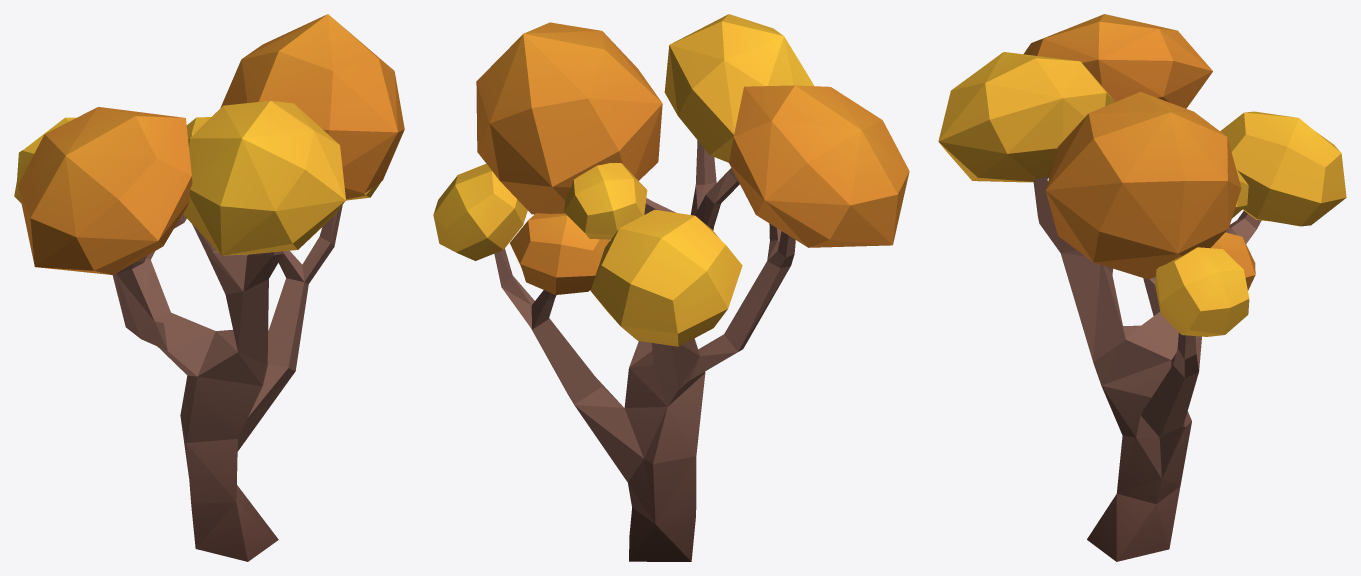
The model's file is AutumnTree3.fbx.
3 renders of one model, left to right at view 1: azimuth 30°, elevation 25°; view 2: azimuth 150°, elevation 25°; view 3: azimuth 270°, elevation 25°, orthographic. The views are drawn at different scales.
Parts seen in each view (by area): view 1: AutumnTree3; view 2: AutumnTree3; view 3: AutumnTree3.
Boxes of the visible parts, x1,y1,x2,y2 form: AutumnTree3: (14,14,404,561); AutumnTree3: (433,14,909,561); AutumnTree3: (938,14,1346,561).
Size of the model in its own units: 384 by 450 by 342.
